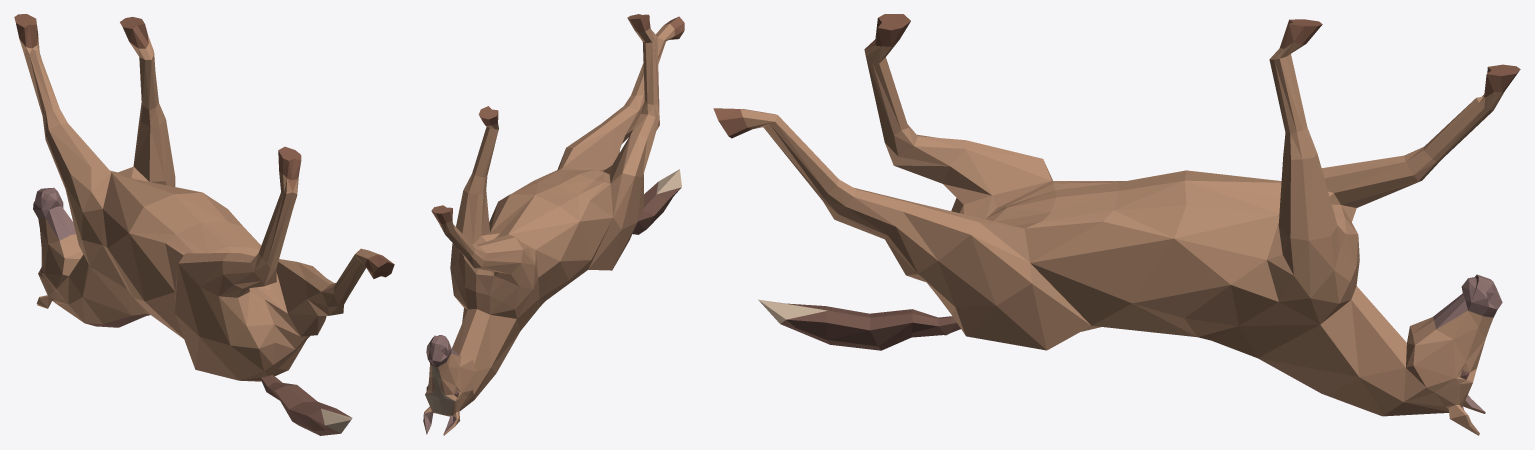
The picture shows the model from 3 angles, left to right: view 1: azimuth 30°, elevation 25°; view 2: azimuth 150°, elevation 25°; view 3: azimuth 270°, elevation 25°; orthographic projection. The views are drawn at different scales.
Visible parts, largest first — view 1: mesh_0; view 2: mesh_0; view 3: mesh_0.
Boxes of the visible parts, x1,y1,x2,y2 form: mesh_0: (14, 14, 394, 435); mesh_0: (423, 14, 684, 435); mesh_0: (713, 14, 1520, 435).
Bounding box in the file's own units: 1.31 × 3.9 × 6.89.
